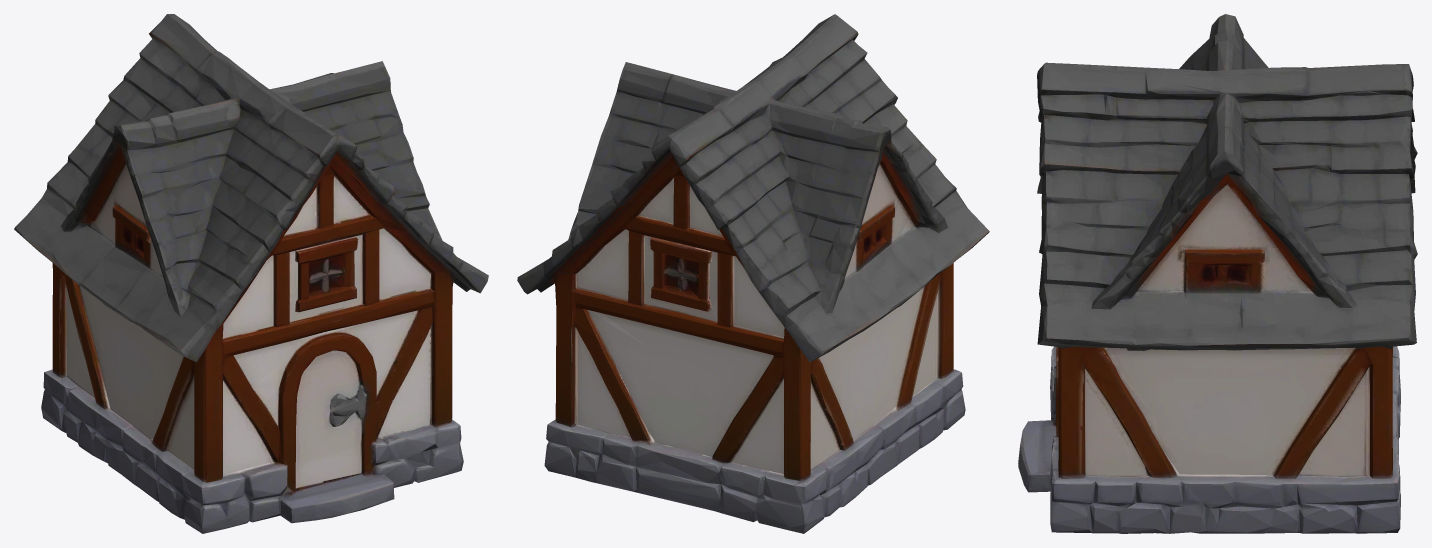
Rendered from timber_framed_house.glb.
The picture shows the model from 3 angles, left to right: view 1: azimuth 30°, elevation 25°; view 2: azimuth 150°, elevation 25°; view 3: azimuth 270°, elevation 25°; orthographic projection. The views are drawn at different scales.
Size of the model in its own units: 1.72 by 1.97 by 1.77.
1 material, 1 textured.
